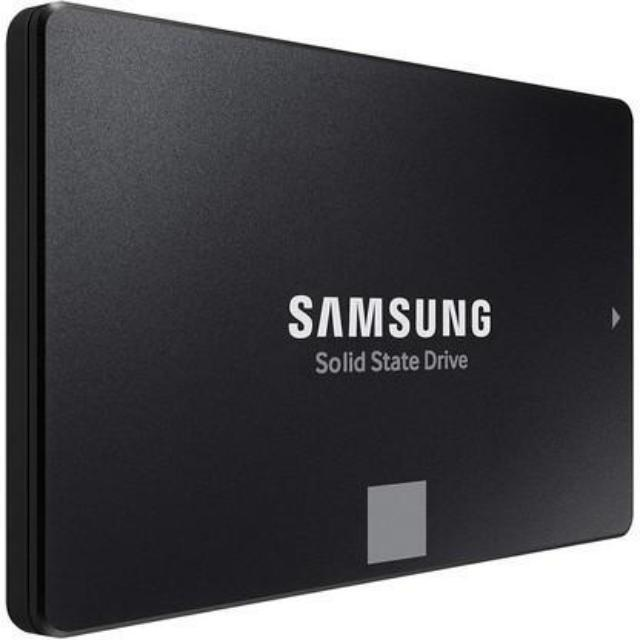DISK: (8, 0, 637, 635)
